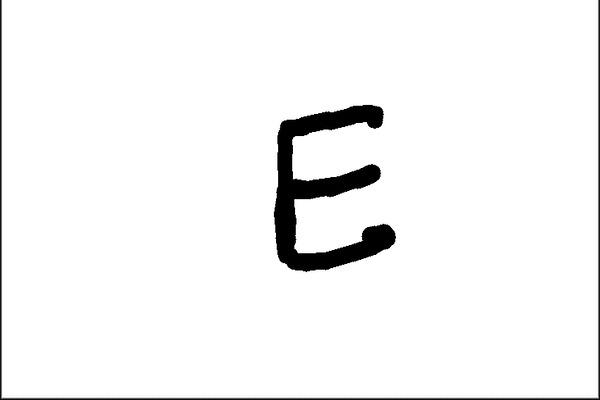E: (267, 100, 397, 272)
